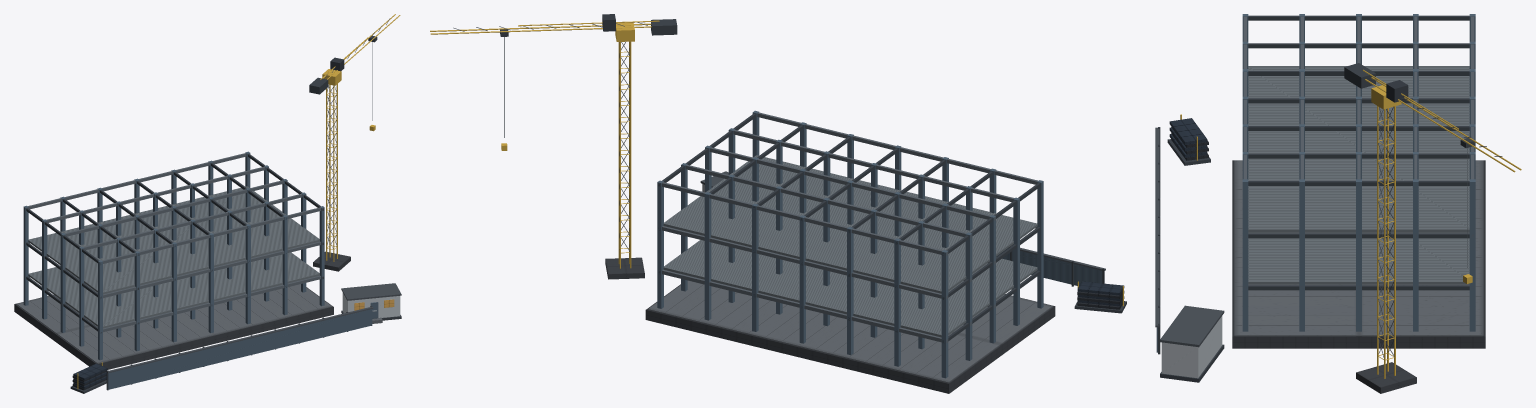
The model's file is trg-7-construction.glb.
3 renders of one model, left to right at view 1: azimuth 30°, elevation 25°; view 2: azimuth 150°, elevation 25°; view 3: azimuth 270°, elevation 25°, orthographic. The views are drawn at different scales.
Size of the model in its own units: 56.02 by 24.75 by 26.74.
19 materials, 11 textured.
